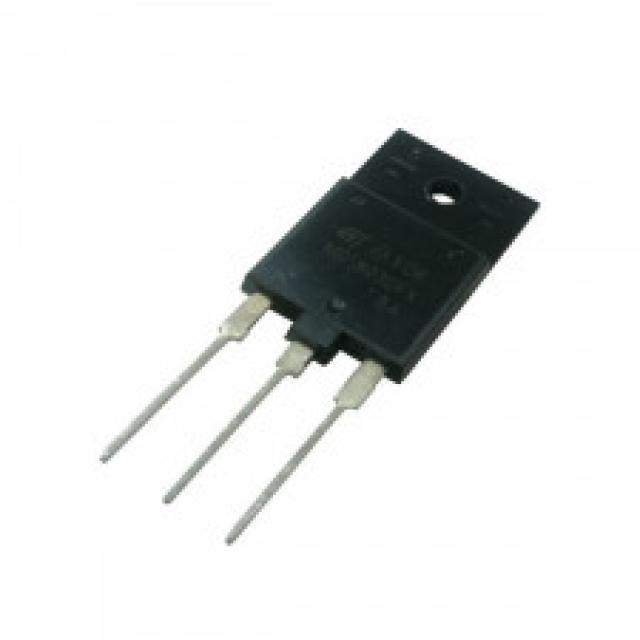Transistor: (100, 130, 534, 550)
